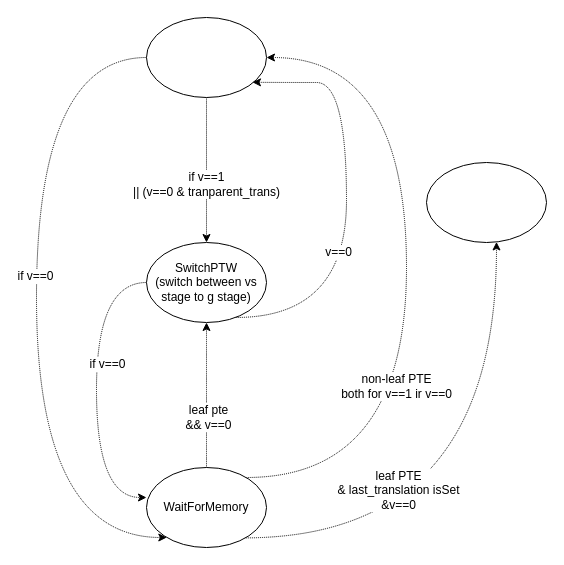
Some shapes in this 564 by 565 pixel diagram are drawn without their labels. The centre of each missing label's shape, as x and y in pixels:
GeneratePTE: (x=206, y=57)
TranslationDone: (x=486, y=202)
